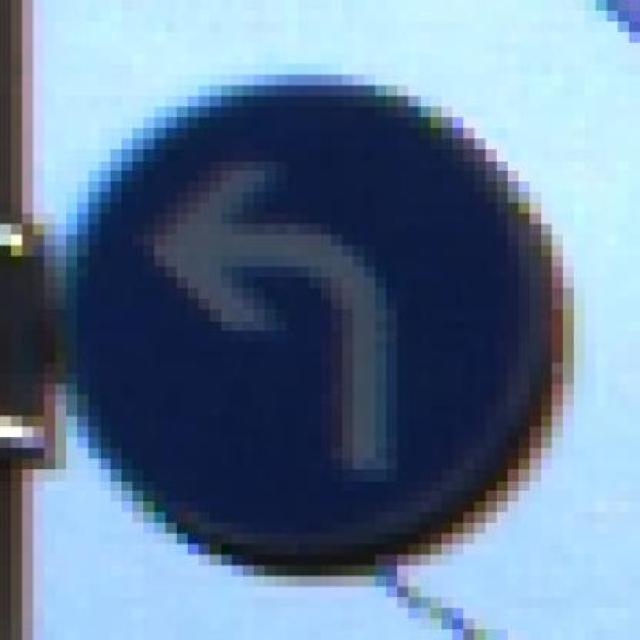Turn left ahead: (66, 64, 574, 587)
